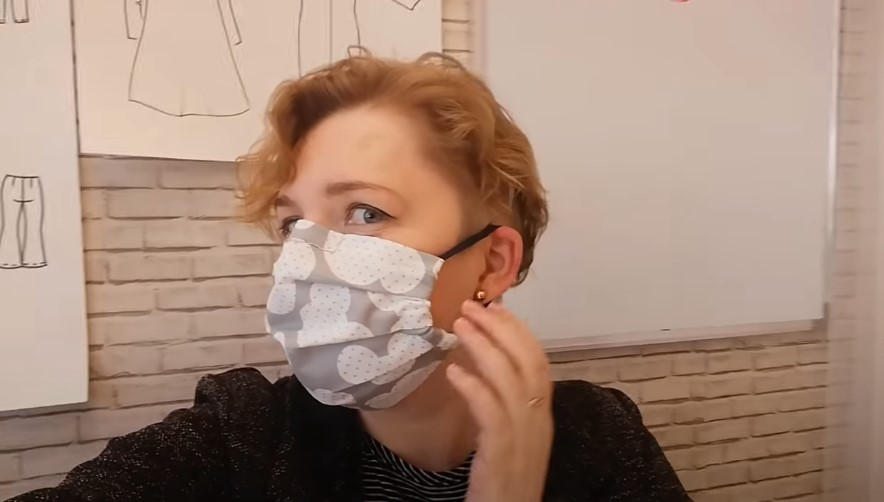face_with_mask: (263, 63, 518, 413)
